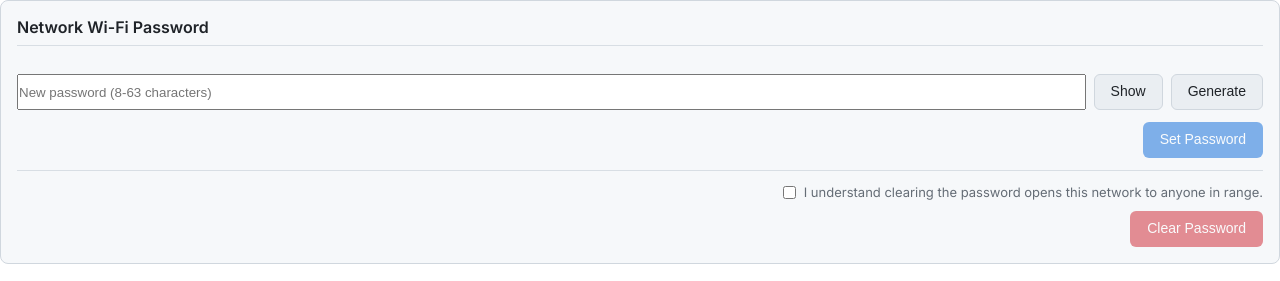
Test case: NetworkPasswordCard › disables Clear until the open-network acknowledgement checkbox is checked
The image size is (1280, 281).
Check: the button "Clear Password" is disabled, box [1130,210,1263,246]
Click the checkbox: (789, 193) [783,186,796,199]
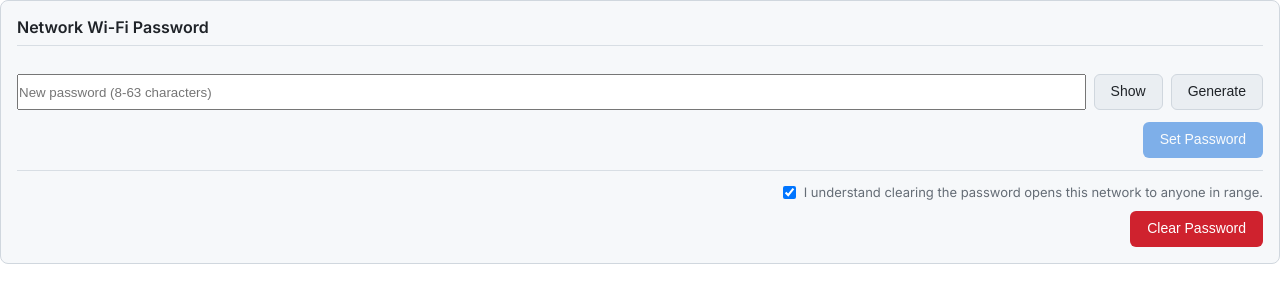
Check: the button "Clear Password" is enabled, box [1130,210,1263,246]
